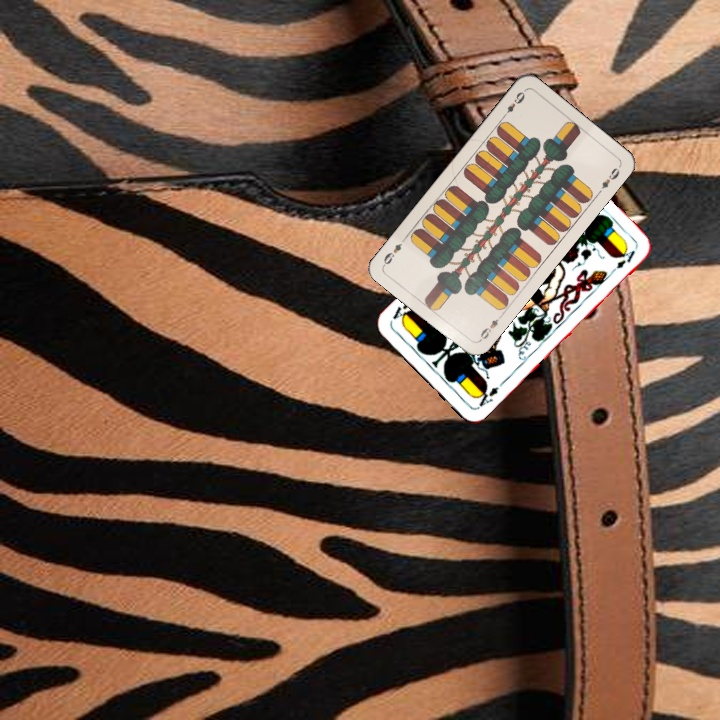E9: (498, 87, 528, 121), (475, 310, 505, 344)
EA: (471, 382, 501, 411)
